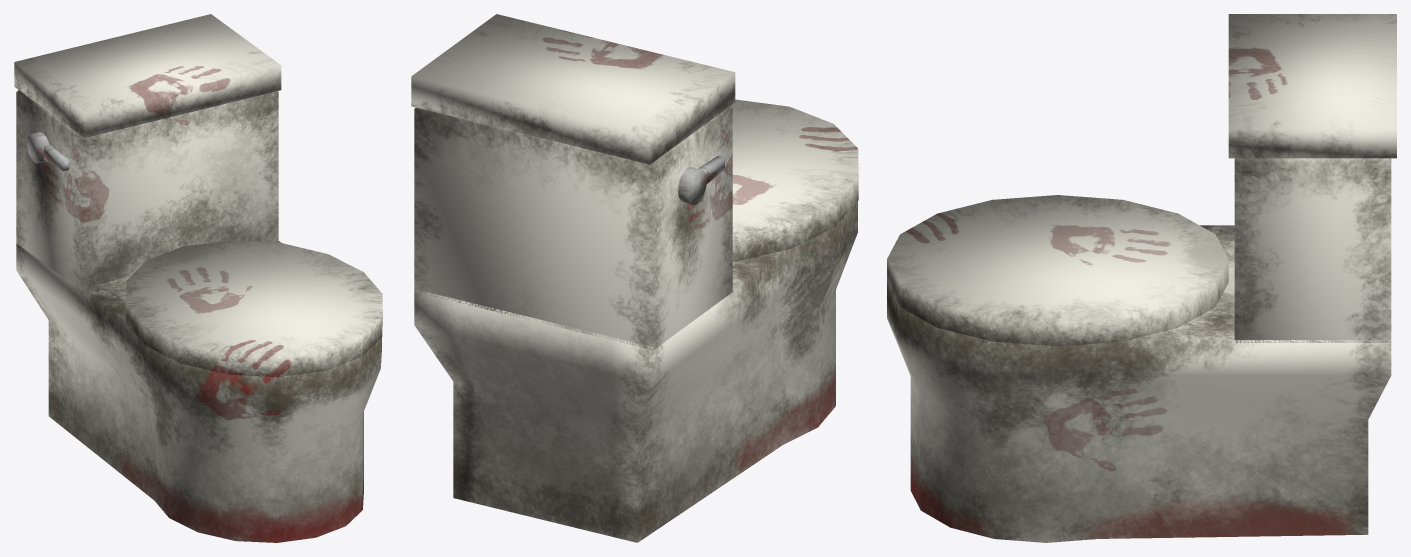
Rendered from toilet_horror.glb.
3 views of the same model, side by side, from view 1: azimuth 30°, elevation 25°; view 2: azimuth 150°, elevation 25°; view 3: azimuth 270°, elevation 25° (orthographic). The views are drawn at different scales.
Visible parts, largest first — view 1: g; view 2: g; view 3: g.
Boxes of the visible parts, x1,y1,x2,y2 form: g: [14, 14, 382, 542]; g: [411, 14, 858, 542]; g: [887, 14, 1396, 542].
Bounding box in the file's own units: 1.19 × 1.81 × 2.
1 material, 1 textured.
